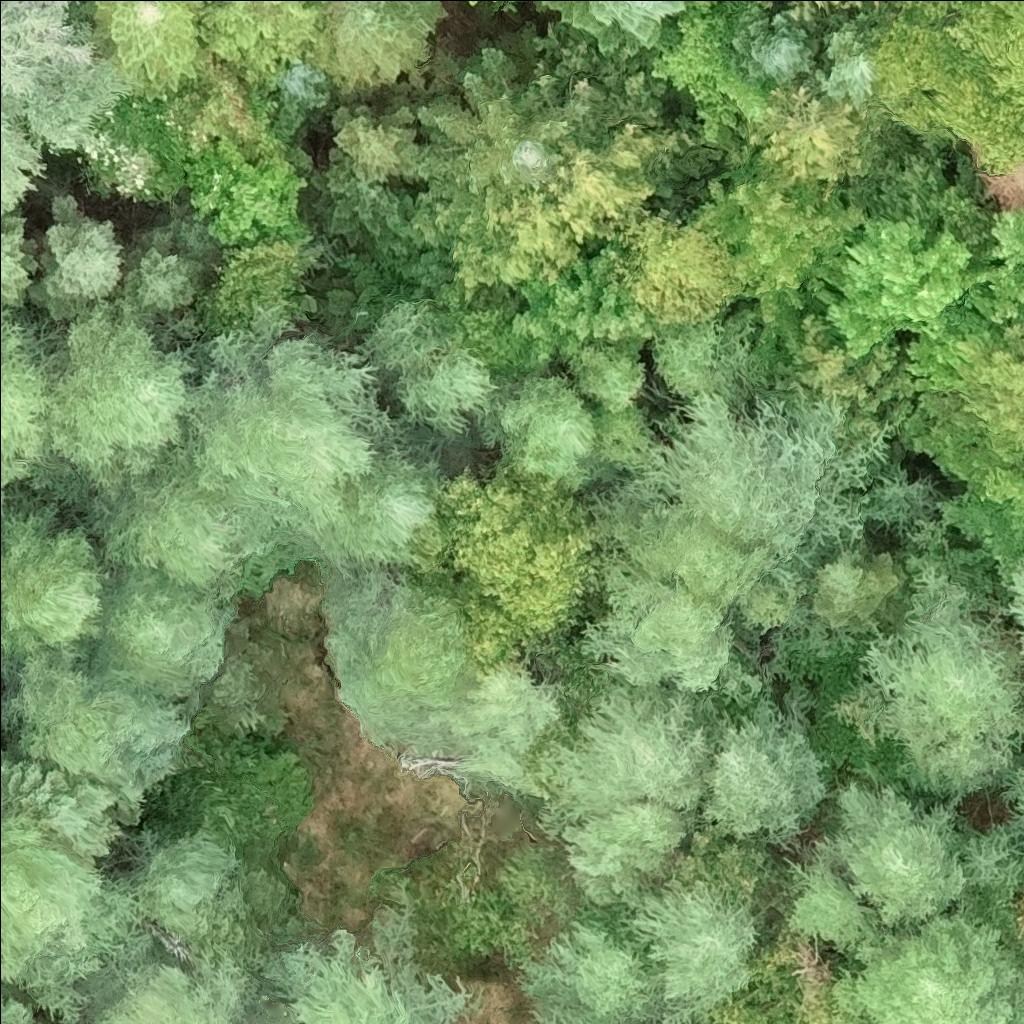crown: (587, 391, 938, 627), (175, 303, 444, 578), (406, 24, 667, 250), (0, 766, 156, 1023), (859, 567, 1023, 800), (442, 456, 603, 687), (0, 651, 194, 827), (484, 124, 687, 285), (814, 207, 1023, 360), (37, 297, 196, 494), (544, 676, 722, 844), (0, 0, 139, 215), (856, 0, 1023, 176), (581, 552, 766, 708), (324, 569, 472, 753), (701, 162, 865, 324), (90, 457, 278, 595), (92, 564, 237, 721), (829, 907, 1023, 1023), (827, 784, 970, 932), (617, 880, 760, 1023), (649, 0, 782, 146), (705, 699, 827, 851), (0, 507, 115, 663), (272, 935, 469, 1023), (517, 901, 657, 1023), (610, 211, 750, 330), (441, 661, 558, 800), (474, 376, 609, 492), (132, 831, 250, 962), (875, 152, 1001, 273), (517, 252, 651, 361), (563, 799, 690, 909), (96, 950, 285, 1023), (304, 0, 448, 94), (185, 139, 309, 245), (185, 45, 287, 168), (0, 303, 65, 487), (92, 0, 204, 104), (704, 937, 834, 1023), (200, 0, 329, 86), (203, 241, 323, 330), (650, 312, 757, 405), (395, 347, 501, 440), (790, 836, 875, 950), (536, 0, 687, 63), (312, 149, 401, 254), (765, 88, 862, 184), (442, 876, 543, 968), (650, 823, 765, 900), (333, 104, 417, 186), (963, 331, 1023, 443), (46, 221, 123, 304), (733, 10, 817, 86), (570, 335, 647, 413), (360, 298, 444, 368), (816, 15, 874, 115), (501, 849, 582, 919), (975, 419, 1023, 534), (955, 876, 1023, 955), (590, 402, 658, 471), (135, 245, 205, 311), (0, 215, 33, 306), (1006, 562, 1023, 682), (0, 993, 31, 1023), (676, 0, 724, 18), (1011, 765, 1023, 816), (1017, 704, 1023, 746), (533, 1016, 553, 1023), (470, 0, 483, 6)
